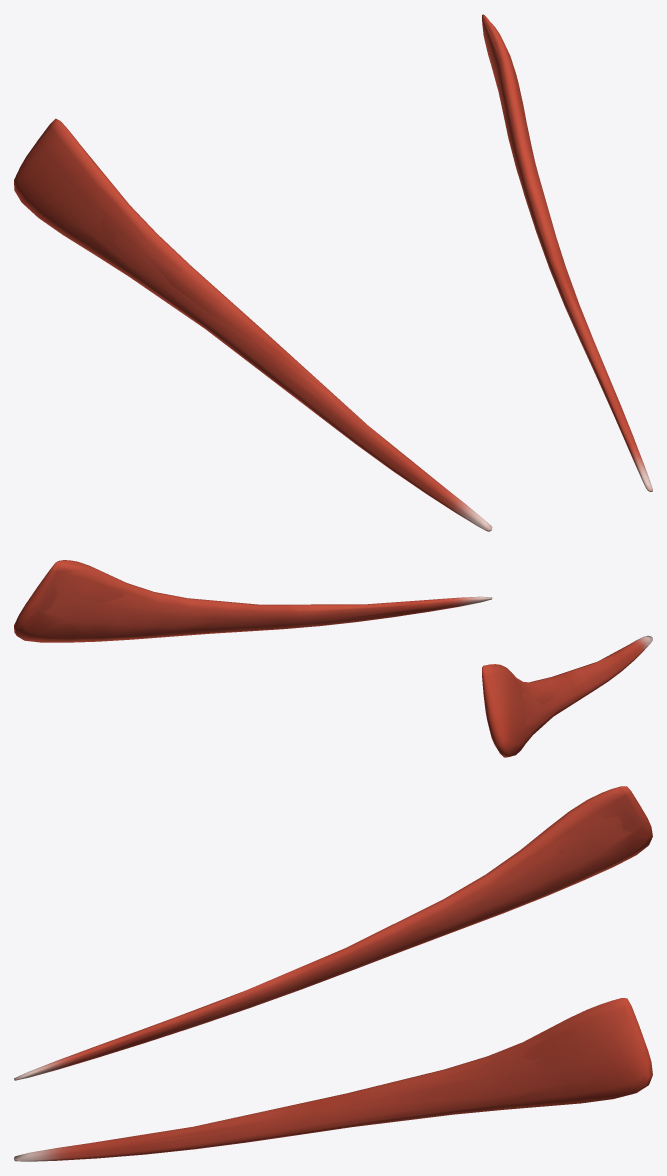
File: Levator labii superioris.fbx
3 views of the same model, one above another, from view 1: azimuth 30°, elevation 25°; view 2: azimuth 150°, elevation 25°; view 3: azimuth 270°, elevation 25° (orthographic).
Parts seen in each view (by area): view 1: Levator labii superioris, Levator labii superioris low; view 2: Levator labii superioris, Levator labii superioris low; view 3: Levator labii superioris, Levator labii superioris low.
Boxes of the visible parts, x1,y1,x2,y2 form: Levator labii superioris: (14, 14, 652, 531); Levator labii superioris low: (14, 18, 652, 530); Levator labii superioris: (14, 560, 652, 757); Levator labii superioris low: (14, 560, 631, 757); Levator labii superioris: (14, 786, 652, 1161); Levator labii superioris low: (15, 788, 652, 1161).
Bounding box in the file's own units: 8.6 × 3.75 × 9.52.
Materials: 1 (1 with a texture image).
